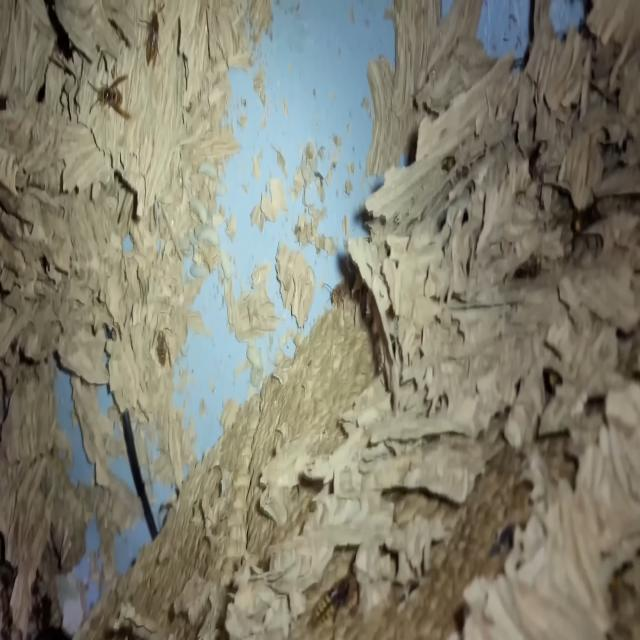Hornets: (86, 72, 132, 120), (138, 2, 166, 65)
